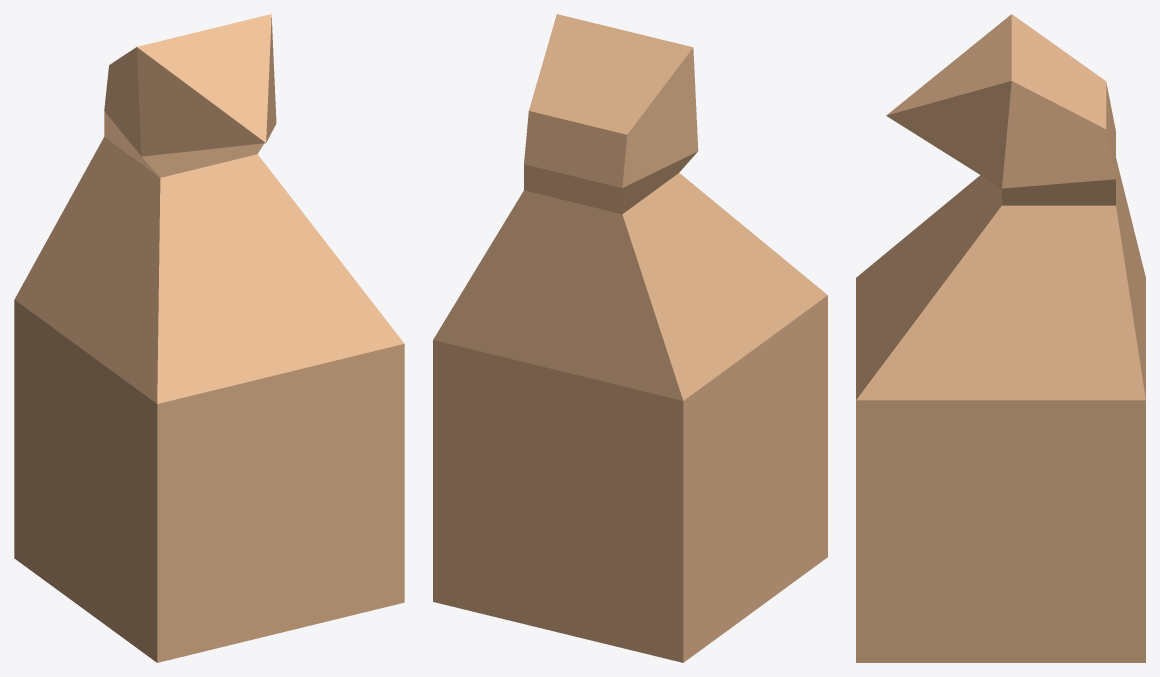
Rendered from knight_white.fbx.
3 renders of one model, left to right at view 1: azimuth 30°, elevation 25°; view 2: azimuth 150°, elevation 25°; view 3: azimuth 270°, elevation 25°, orthographic.
Visible parts, largest first — view 1: Cube.004; view 2: Cube.004; view 3: Cube.004.
Part boxes in pixels (x1=…): Cube.004: x1=14, y1=14, x2=404, y2=662; Cube.004: x1=433, y1=14, x2=827, y2=662; Cube.004: x1=856, y1=14, x2=1145, y2=662.
Size of the model in its own units: 2.8 by 5.9 by 2.8.
